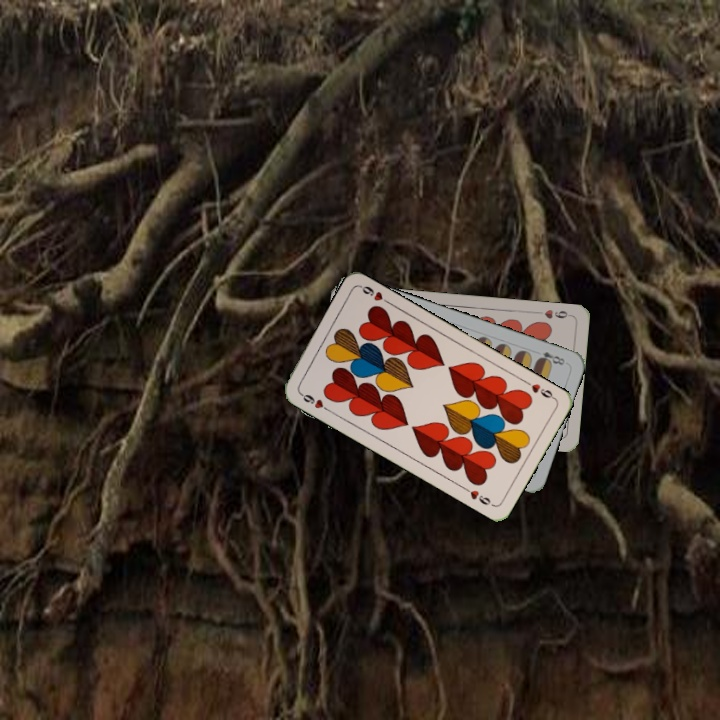E8: (533, 347, 568, 368)
H9: (520, 376, 558, 402), (296, 388, 333, 414), (533, 305, 574, 321)
